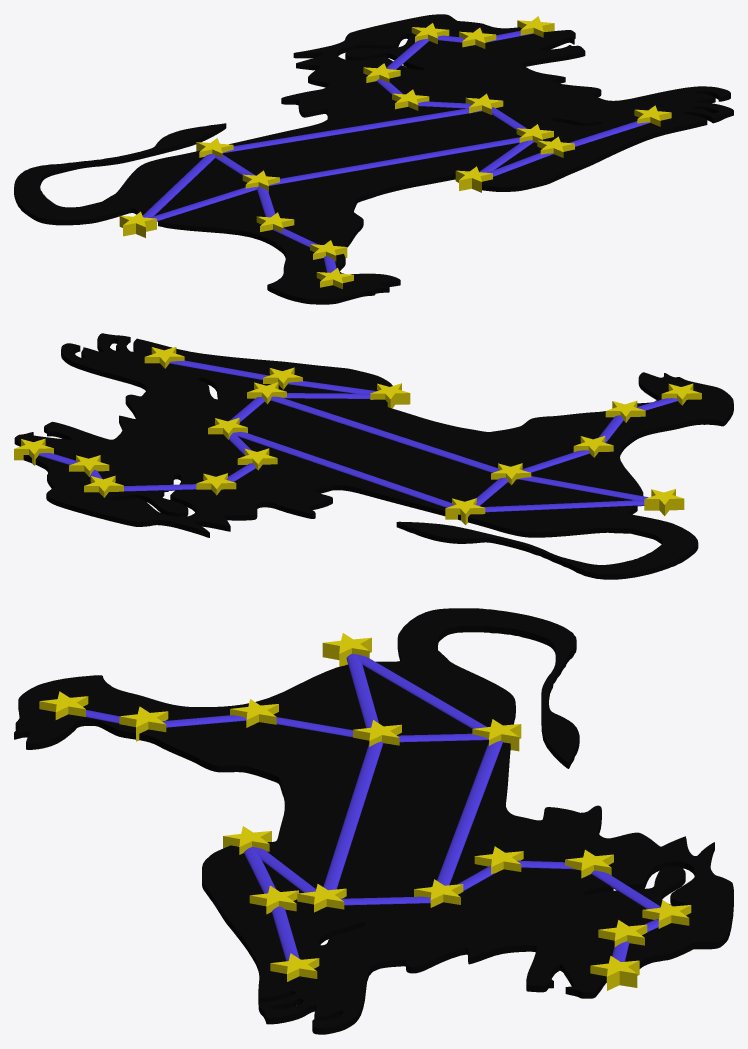
File: Shishi-za.glb
The picture shows the model from 3 angles, top to bottom: view 1: azimuth 30°, elevation 25°; view 2: azimuth 150°, elevation 25°; view 3: azimuth 270°, elevation 25°; orthographic projection. The views are drawn at different scales.
Visible parts, largest first — view 1: トレース, 円柱.025, 円柱.024, 円柱.030, 円柱.031, 円.027, 円.023, 円.018, 円.025, 円.026, 円.002; view 2: トレース, 円柱.025, 円柱.024, 円柱.030, 円柱.031, 円.027, 円.023, 円.016, 円.018, 円柱.023, 円.001, 円 (+14 smaller); view 3: トレース, 円柱.025, 円柱.024, 円柱.030, 円.018, 円柱.031, 円.027, 円.025, 円.016, 円, 円.021, 円.022 (+12 smaller).
Boxes of the visible parts, box(x1,y1,x2,y2) form: トレース: box(14, 14, 733, 304); 円柱.025: box(269, 137, 520, 185); 円柱.024: box(223, 108, 481, 153); 円柱.030: box(142, 153, 215, 217); 円柱.031: box(149, 186, 258, 221); 円.027: box(119, 211, 156, 237); 円.023: box(455, 166, 492, 192); 円.018: box(517, 16, 554, 37); 円.025: box(310, 240, 347, 261); 円.026: box(316, 268, 353, 289); 円.002: box(459, 27, 496, 48); トレース: box(14, 333, 733, 579); 円柱.025: box(270, 396, 499, 472); 円柱.024: box(234, 432, 453, 507); 円柱.030: box(483, 500, 644, 512); 円柱.031: box(519, 476, 648, 500); 円.027: box(644, 489, 684, 515); 円.023: box(370, 383, 410, 408); 円.016: box(445, 498, 485, 525); 円.018: box(14, 438, 53, 465); 円柱.023: box(169, 360, 268, 379); 円.001: box(196, 473, 236, 495); 円: box(84, 475, 123, 497); トレース: box(14, 608, 733, 1034); 円柱.025: box(323, 741, 383, 890); 円柱.024: box(437, 740, 502, 885); 円柱.030: box(355, 654, 487, 728); 円.018: box(590, 956, 639, 990); 円柱.031: box(346, 653, 378, 728); 円.027: box(322, 633, 371, 666); 円.025: box(119, 706, 168, 741); 円.016: box(472, 719, 521, 751); 円: box(642, 900, 691, 928); 円.021: box(297, 884, 346, 912); 円.022: box(270, 953, 319, 981).
Size of the model in its own units: 56.1 by 0.8959 by 40.64.
